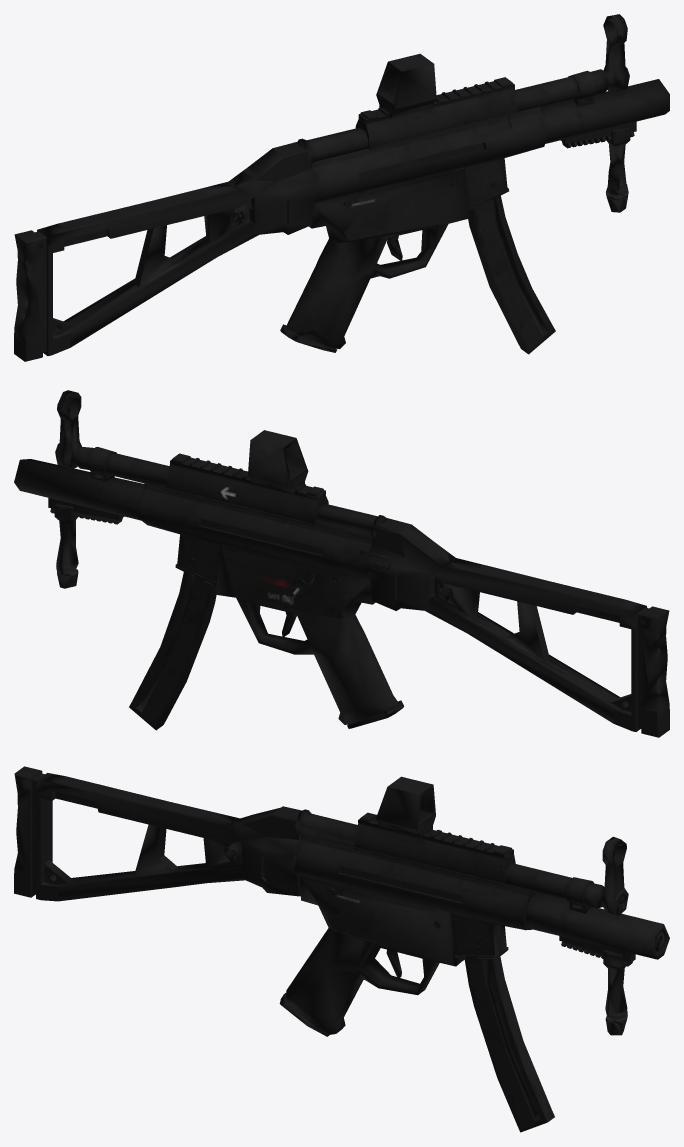
3 views of the same model, one above another, from view 1: azimuth 30°, elevation 25°; view 2: azimuth 150°, elevation 25°; view 3: azimuth 330°, elevation 25° (orthographic).
Visible parts, largest first — view 1: mp5_body, mp5_magazine; view 2: mp5_body, mp5_magazine; view 3: mp5_body, mp5_magazine.
Part boxes in pixels (x1,y1,x2,y2): mp5_body: (14, 14, 669, 361); mp5_magazine: (468, 195, 555, 354); mp5_body: (14, 390, 669, 737); mp5_magazine: (129, 572, 216, 730); mp5_body: (14, 766, 669, 1036); mp5_magazine: (464, 956, 554, 1132).
Bounding box in the file's own units: 0.6799 × 0.3204 × 0.0453.
1 material, 1 textured.
